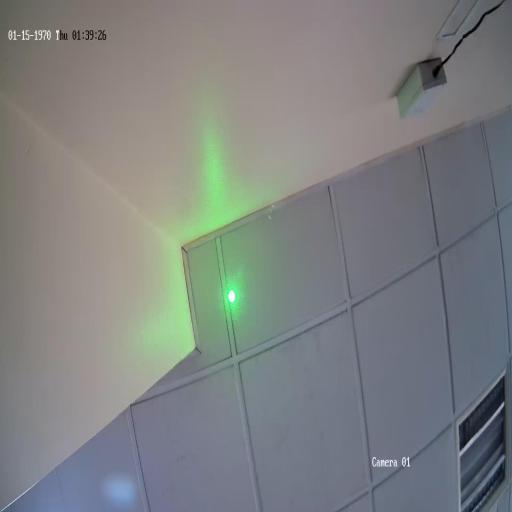laser: (219, 273, 244, 321)
